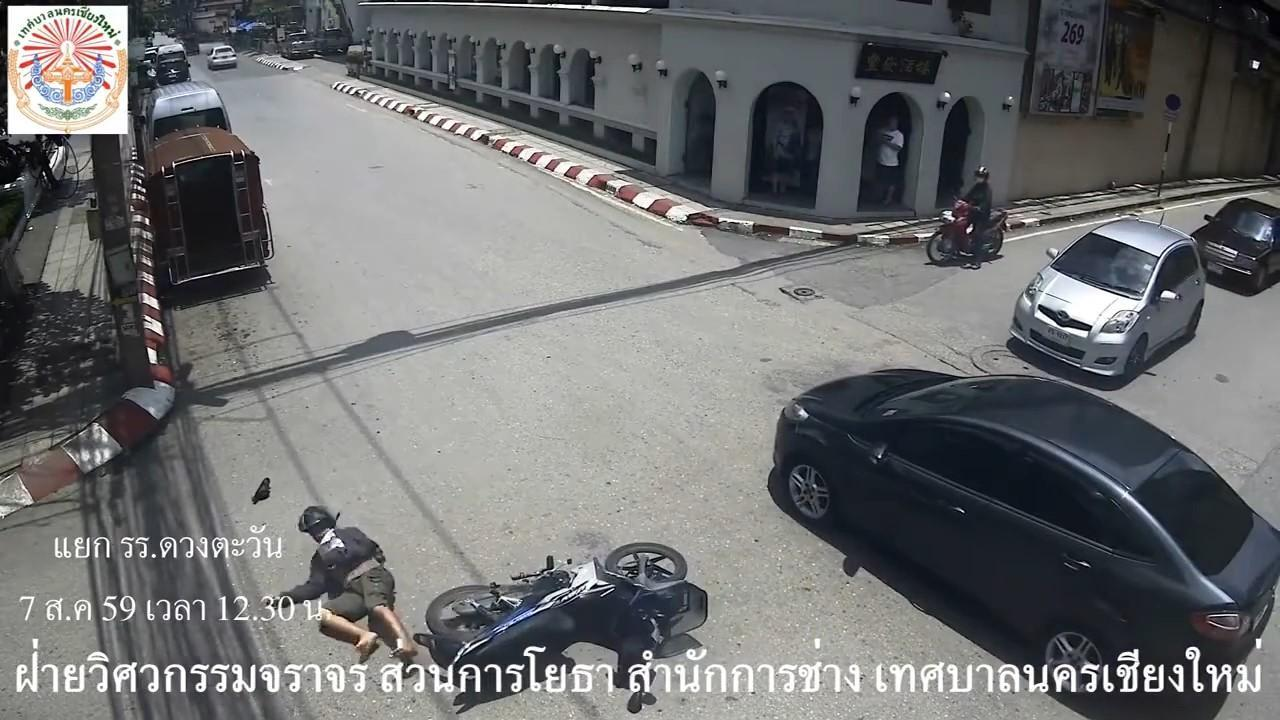accident: (270, 505, 420, 667)
